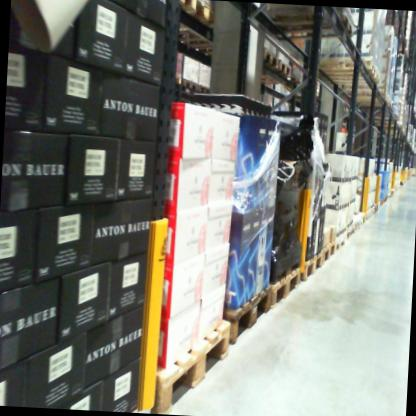pallet: (151, 306, 231, 414), (256, 4, 358, 49), (217, 278, 273, 348), (162, 0, 215, 32), (317, 51, 380, 77), (225, 44, 279, 74), (269, 259, 301, 307), (295, 243, 323, 286), (257, 60, 291, 85), (317, 241, 336, 264), (332, 235, 346, 258)
